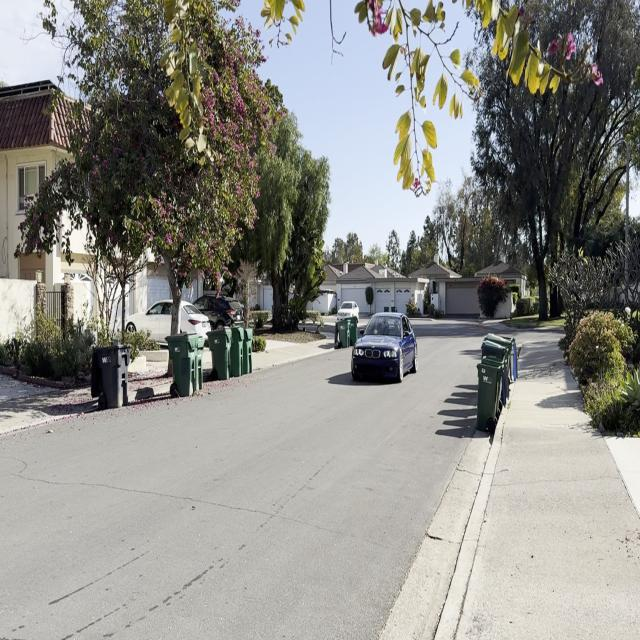Carbeetle: (346, 302, 426, 396)
